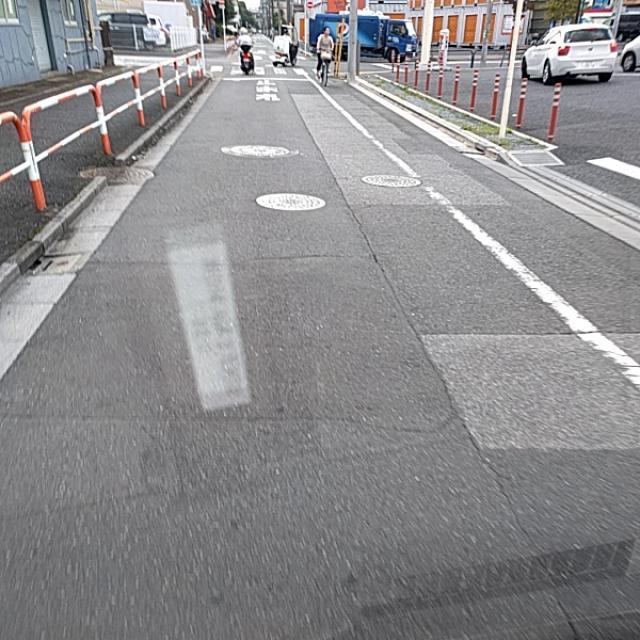pothole: (402, 371, 501, 450)
